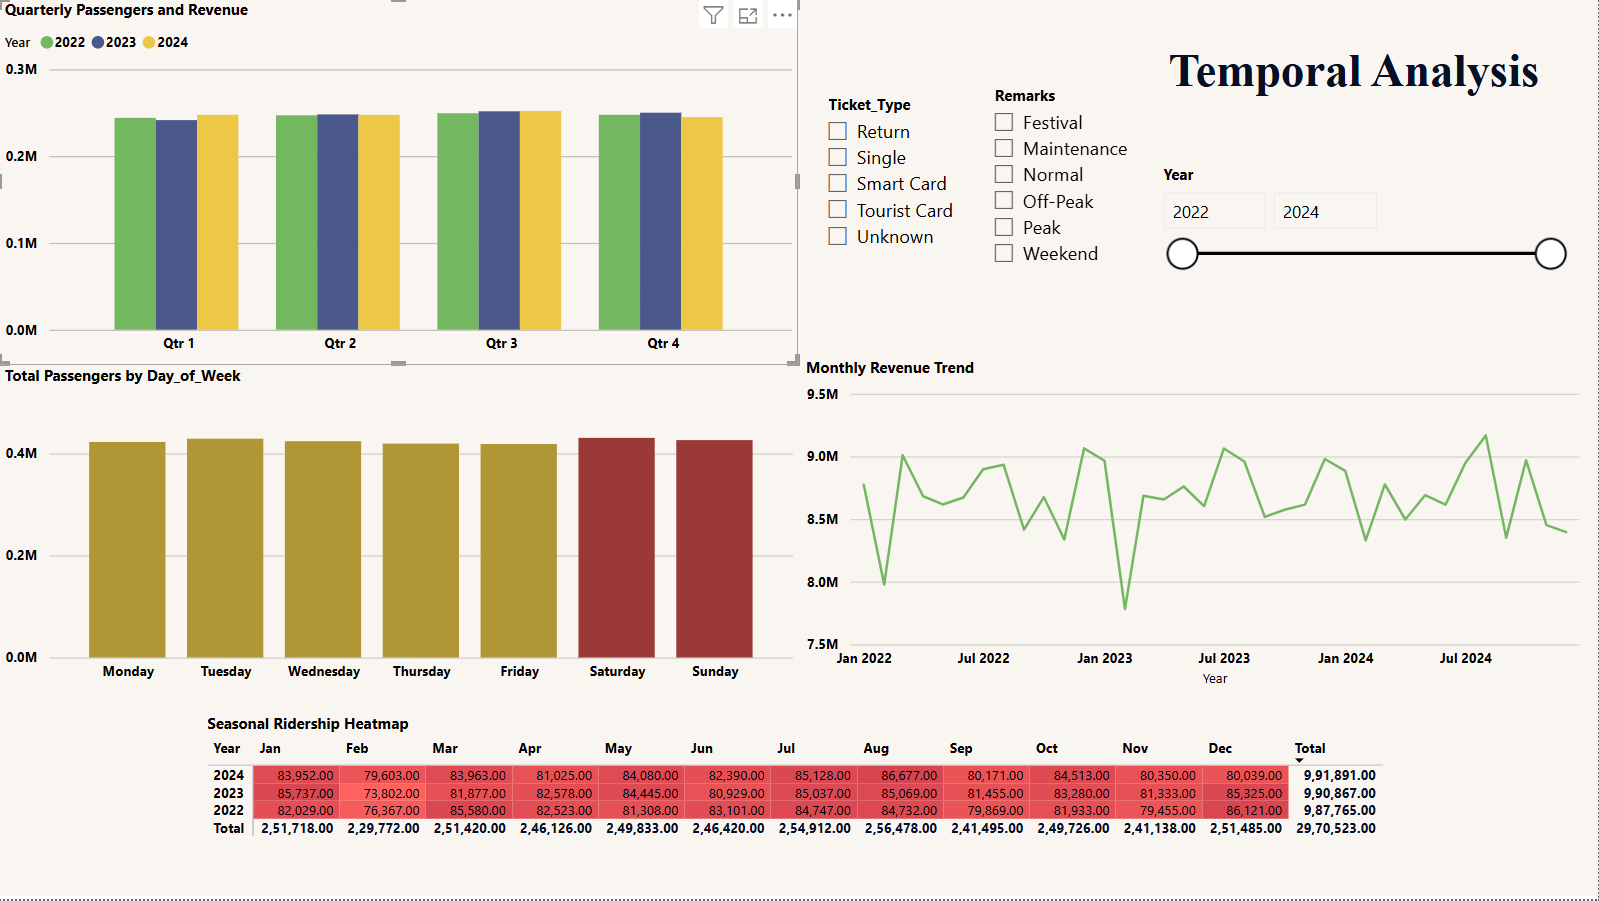

The dashboard page shown, as its layout file describes it:
{"tool":"powerbi","page":{"name":"Temporal Analysis","canvas":[1280,720],"ordinal":1},"visuals":[{"type":"lineChart","title":"Monthly Revenue Trend","fields":{"Y":["delhi_metro_updated.Total Revenue"],"Category":["delhi_metro_updated.Date.Variation.Date Hierarchy.Year","delhi_metro_updated.Date.Variation.Date Hierarchy.Quarter","delhi_metro_updated.Date.Variation.Date Hierarchy.Month"]},"box":[640.7,286,639.5,268.6],"z":0},{"type":"pivotTable","title":"Seasonal Ridership Heatmap","fields":{"Rows":["delhi_metro_updated.Year"],"Columns":["delhi_metro_updated.Month_Name"],"Values":["delhi_metro_updated.Total Passengers"]},"box":[162,571,977,130],"z":1000},{"type":"clusteredColumnChart","title":"Quarterly Passengers and Revenue","fields":{"Y":["delhi_metro_updated.Total Passengers"],"Category":["delhi_metro_updated.Date.Variation.Date Hierarchy.Quarter"],"Series":["delhi_metro_updated.Year"]},"box":[0,0,639.5,293],"z":2000},{"type":"clusteredColumnChart","fields":{"Category":["delhi_metro_updated.Day_of_Week"],"Y":["delhi_metro_updated.Total Passengers"]},"box":[0,293,640.7,261.6],"z":3000},{"type":"slicer","fields":{"Values":["delhi_metro_updated.Year"]},"box":[918.6,126.7,344.2,110.5],"z":4000},{"type":"slicer","fields":{"Values":["delhi_metro_updated.Ticket_Type"]},"box":[651.2,70.9,143,182.6],"z":5000},{"type":"slicer","fields":{"Values":["delhi_metro_updated.Remarks"]},"box":[783.7,64,134.9,204.7],"z":6000},{"type":"textbox","box":[931.4,30.2,318.6,68.6],"z":7000}]}

Visuals, with their boxes in screenshot pixels (x1, y1, x2, y2), scaled from the page's 1280x720 canvas onto the 1599x901 screenshot:
"Monthly Revenue Trend" lineChart: (left=800, top=358, right=1598, bottom=694)
"Seasonal Ridership Heatmap" pivotTable: (left=202, top=715, right=1423, bottom=877)
"Quarterly Passengers and Revenue" clusteredColumnChart: (left=0, top=0, right=799, bottom=367)
clusteredColumnChart - delhi_metro_updated.Day_of_Week x delhi_metro_updated.Total Passengers: (left=0, top=367, right=800, bottom=694)
slicer - delhi_metro_updated.Year: (left=1148, top=159, right=1578, bottom=297)
slicer - delhi_metro_updated.Ticket_Type: (left=813, top=89, right=992, bottom=317)
slicer - delhi_metro_updated.Remarks: (left=979, top=80, right=1148, bottom=336)
textbox: (left=1164, top=38, right=1562, bottom=124)
